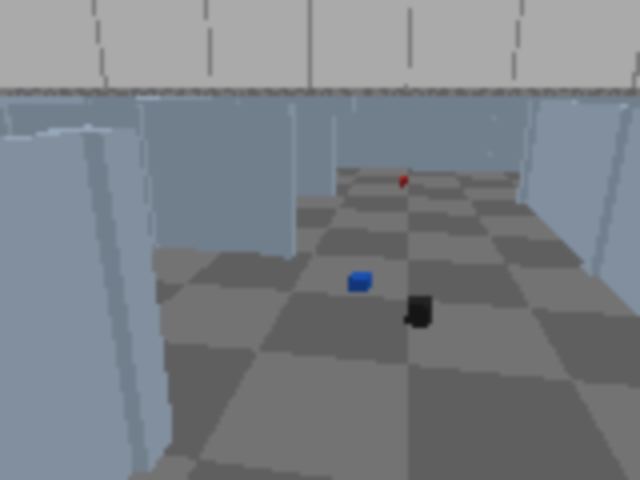puck: (405, 295, 433, 329), (348, 270, 372, 292)
